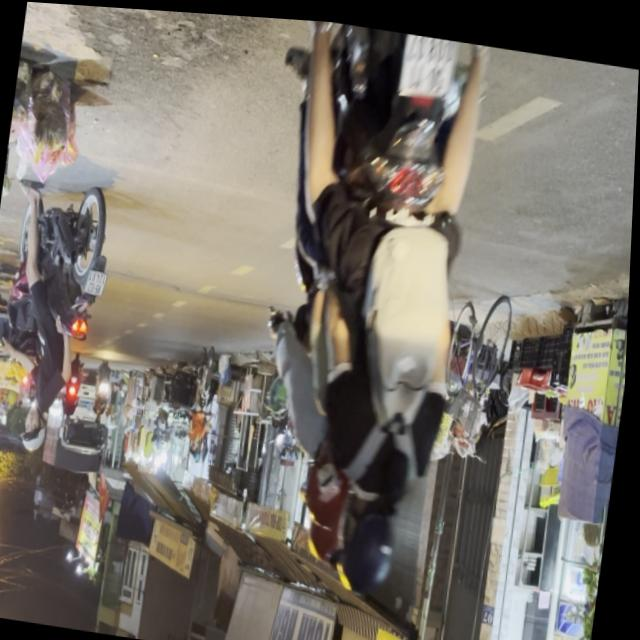helmet: (336, 479, 410, 596), (300, 449, 360, 562), (23, 407, 53, 454)
licenseplate: (228, 13, 511, 606), (0, 174, 122, 465)
nohelmet: (400, 28, 458, 97), (85, 269, 110, 296)
